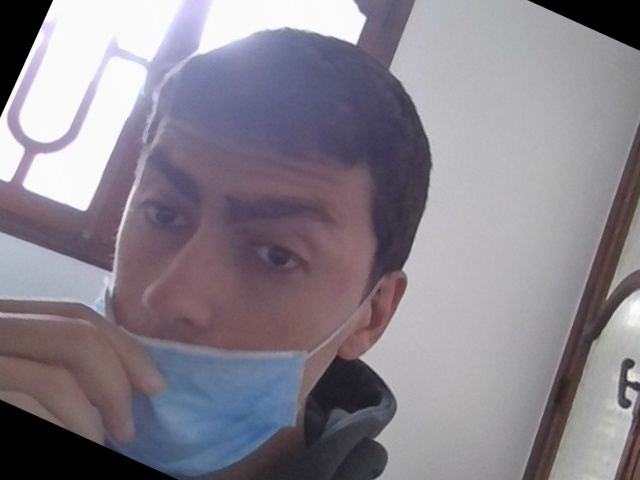mask_weared_incorrect: (87, 78, 386, 472)
